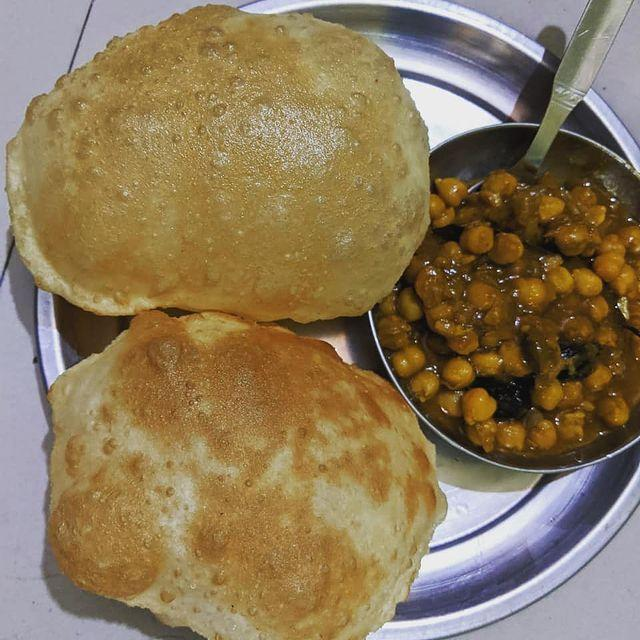Chole: (417, 171, 640, 459)
